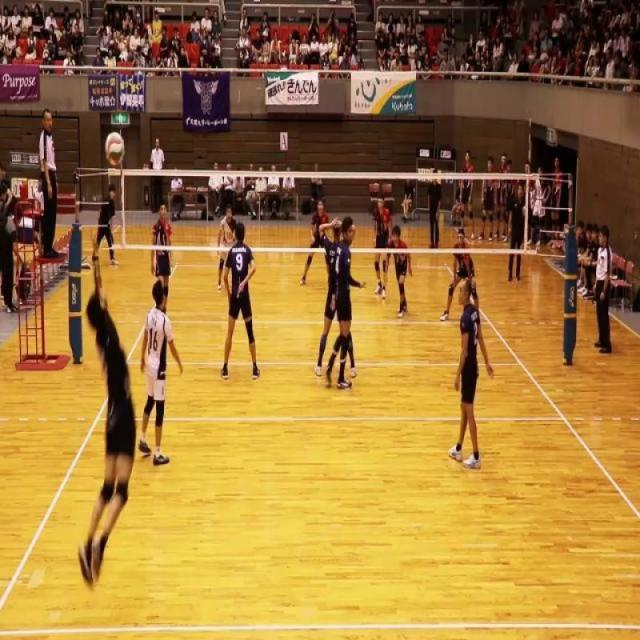volleyball: (104, 130, 125, 166)
